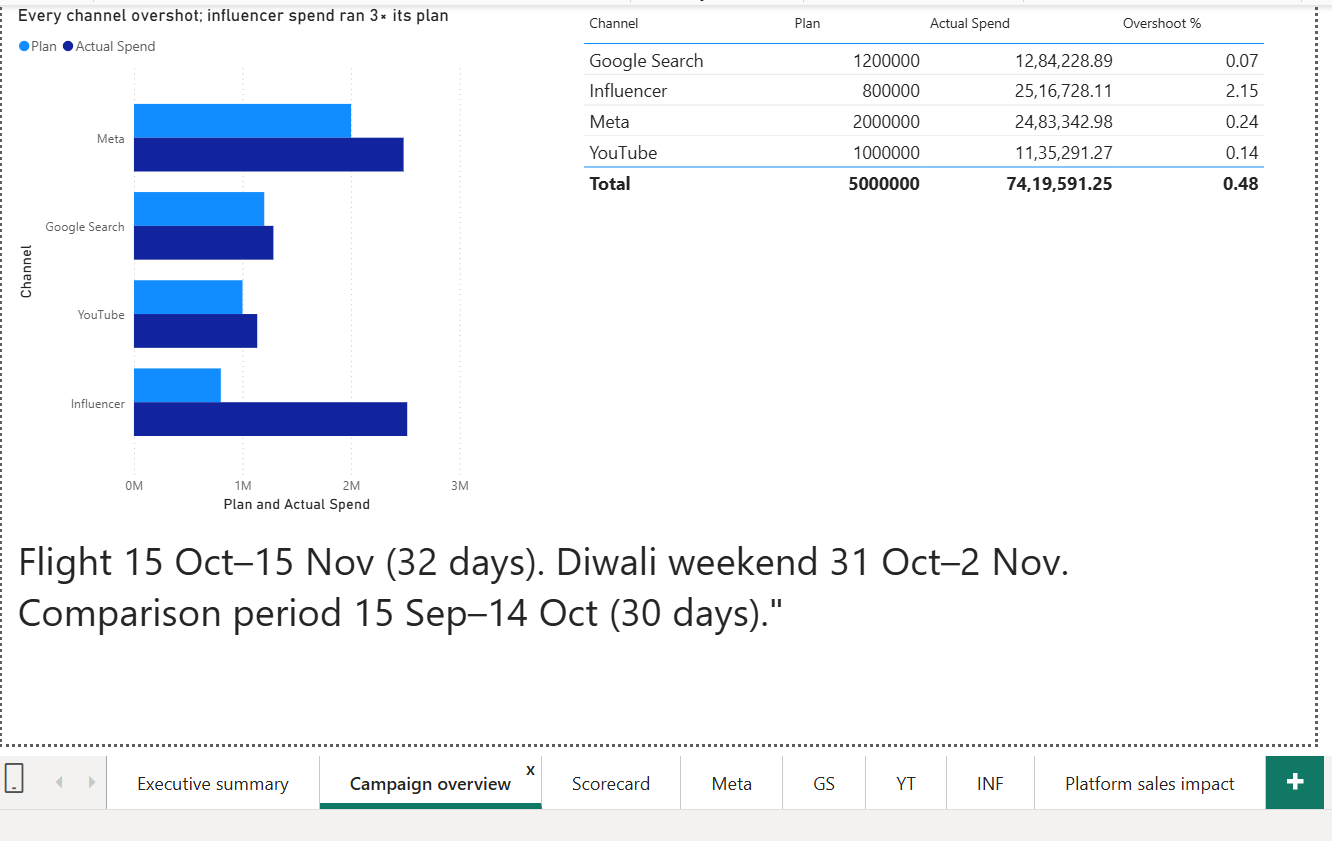

Layout of this report page (visuals, bound fields, positions):
{"tool":"powerbi","page":{"name":"Campaign overview","canvas":[1280,720],"ordinal":1},"visuals":[{"type":"clusteredBarChart","title":"Every channel overshot; influencer spend ran 3× its plan","fields":{"Category":["Plan_Budget.Channel"],"Y":["KPI_Measures.Plan","KPI_Measures.Actual Spend"]},"box":[10.8,0,449.4,498.8],"z":0},{"type":"tableEx","fields":{"Values":["Spend_Actual.Channel","KPI_Measures.Plan","KPI_Measures.Actual Spend","KPI_Measures.Overshoot %"]},"box":[561.2,0,675.1,498.8],"z":1},{"type":"textbox","box":[10.8,509.6,1225.5,210.7],"z":2}]}

Visuals, with their boxes on the page's 1280x720 design canvas (x1, y1, x2, y2). These are canvas units, not pixel positions in the 1332x841 screenshot, which may show the page scaled, cropped or inside an application window:
"Every channel overshot; influencer spend ran 3× its plan" clusteredBarChart: Rect(11, 0, 460, 499)
tableEx - Spend_Actual.Channel x KPI_Measures.Plan: Rect(561, 0, 1236, 499)
textbox: Rect(11, 510, 1236, 720)
